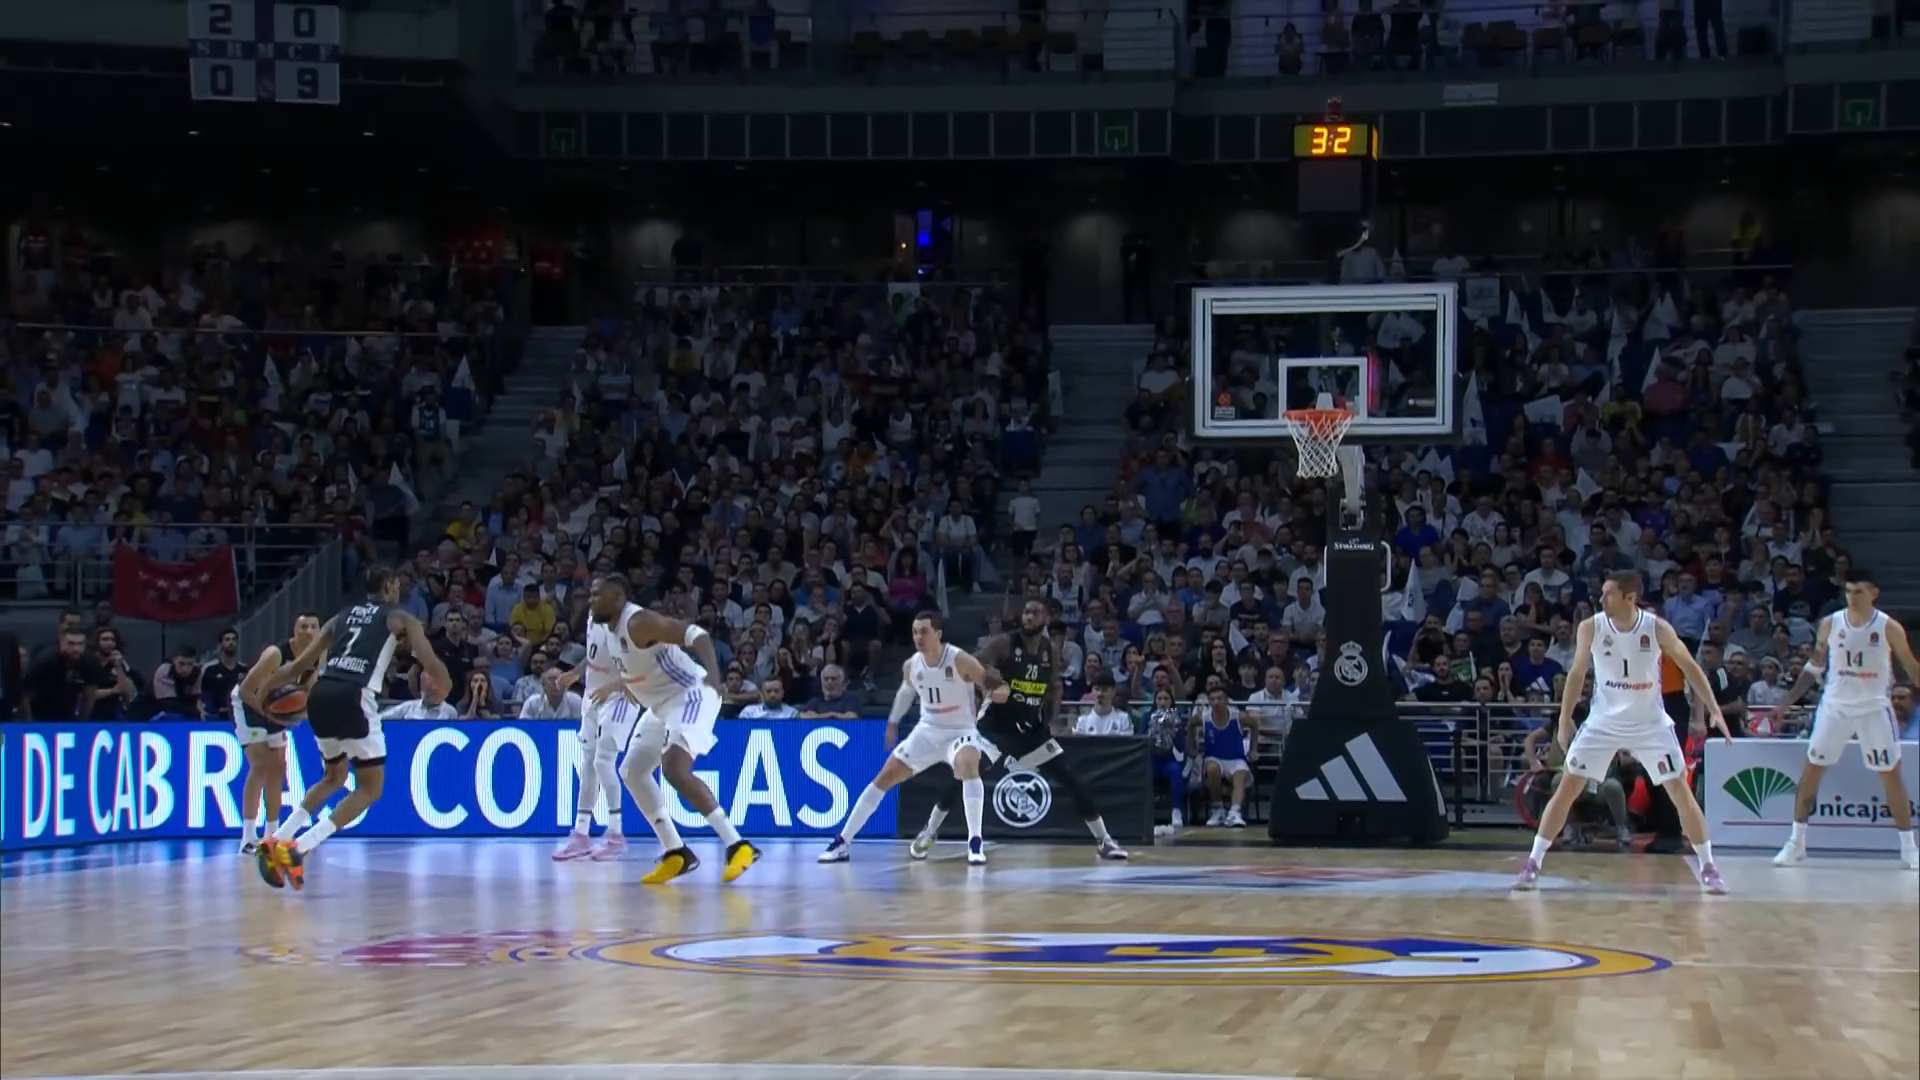ball: (258, 680, 311, 723)
net: (1276, 404, 1361, 479)
